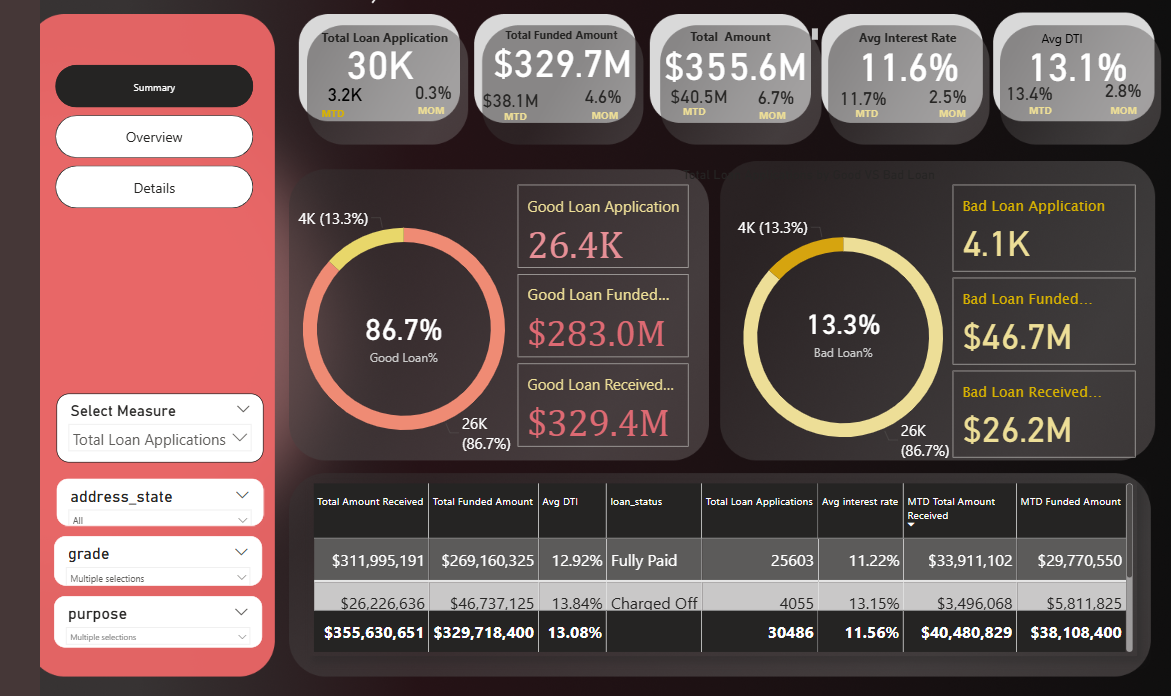

This screenshot's page, from the dashboard's own definition file:
{"tool":"powerbi","page":{"name":"summary","canvas":[1280,720],"ordinal":1},"visuals":[{"type":"card","fields":{"Values":["bank_loan_data.Total Loan Applications"]},"box":[424.3,97.8,91.7,36.7],"z":0},{"type":"card","fields":{"Values":["Date Table.MTD Loan Applications"]},"box":[382.7,118.6,66,28.1],"z":1000},{"type":"card","fields":{"Values":["Date Table.MOM Loan Application"]},"box":[484.2,118.6,61.1,25.7],"z":2000},{"type":"card","fields":{"Values":["Date Table.MOM Total Funded Amount"]},"box":[661.6,105.2,86.8,44],"z":3000},{"type":"card","fields":{"Values":["Date Table.Total Funded Amount"]},"box":[593.1,90.5,127.2,29.3],"z":4000},{"type":"card","fields":{"Values":["Date Table.Total Amount Received"]},"box":[748.4,90.5,144.3,28.1],"z":5000},{"type":"card","fields":{"Values":["Date Table.MTD Total Amount Received"]},"box":[742.3,112.5,78.3,25.7],"z":6000},{"type":"card","fields":{"Values":["Date Table.MOM Total  Amount Received"]},"box":[847.4,113.7,58.7,25.7],"z":7000},{"type":"card","fields":{"Values":["Date Table.MOM Avg Interest Rate"]},"box":[1214,135.1,103.5,91.2],"z":8000},{"type":"slicer","fields":{"Values":["bank_loan_data.address_state"]},"box":[81,260,190,68],"z":9000},{"type":"slicer","fields":{"Values":["bank_loan_data.purpose"]},"box":[79,334,190,68],"z":10000},{"type":"slicer","fields":{"Values":["bank_loan_data.grade"]},"box":[79,412,192,71],"z":11000},{"type":"textbox","box":[595.5,67.3,121.1,33],"z":12000},{"type":"textbox","box":[771.6,67.3,129.6,34.2],"z":13000},{"type":"textbox","box":[415.8,75.8,179.8,34.2],"z":14000},{"type":"textbox","box":[686,127.2,46.5,29.3],"z":15000},{"type":"textbox","box":[595.5,132.1,48.9,33],"z":16000},{"type":"slicer","fields":{"Values":["Select Measure.Select Measure"]},"box":[78,492,192,74],"z":18000},{"type":"shape","box":[1132.7,685.5,34.5,254.5],"z":20000},{"type":"pageNavigator","box":[92.9,114.9,166.3,127.2],"z":21000},{"type":"textbox","box":[399.9,135.7,48.9,33],"z":22000},{"type":"textbox","box":[858.4,132.1,47.7,29.3],"z":23000},{"type":"textbox","box":[771.6,135.7,48.9,33],"z":24000},{"type":"textbox","box":[491.6,134.5,47.7,29.3],"z":25000},{"type":"textbox","box":[946.5,73.4,135.7,40.4],"z":26000},{"type":"textbox","box":[1140.9,79.5,124.7,28.1],"z":27000},{"type":"textbox","box":[1034.5,135.7,46.5,29.3],"z":28000},{"type":"textbox","box":[1231.4,135.7,48.9,36.7],"z":29000},{"type":"textbox","box":[1125,139.4,48.9,33],"z":30000},{"type":"textbox","box":[946.5,132.1,48.9,33],"z":31000},{"type":"card","fields":{"Values":["Date Table.MOM Avg DTI"]},"box":[1231.4,116.2,48.9,25.7],"z":32000},{"type":"card","fields":{"Values":["Date Table.MTD Avg DTI"]},"box":[1115.2,119.8,58.7,22],"z":33000},{"type":"card","fields":{"Values":["Date Table.MOM Avg Interest Rate"]},"box":[1029.6,116.2,51.4,28.1],"z":34000},{"type":"card","fields":{"Values":["Date Table.MTD Avg Int Rate"]},"box":[928.1,116.2,62.4,30.6],"z":35000},{"type":"card","fields":{"Values":["Date Table.Avg DTI"]},"box":[1155.6,99,81.9,31.8],"z":36000},{"type":"card","fields":{"Values":["Date Table.Avg interest rate"]},"box":[967.3,90.5,81.9,37.9],"z":37000},{"type":"card","fields":{"Values":["Date Table.MTD Funded Amount"]},"box":[564.9,113.7,110.1,25.7],"z":38000},{"type":"tableEx","fields":{"Values":["Date Table.Total Amount Received","Date Table.Total Funded Amount","Date Table.Avg DTI","bank_loan_data.loan_status","bank_loan_data.Total Loan Applications","Date Table.Avg interest rate","Date Table.MTD Total Amount Received","Date Table.MTD Funded Amount"]},"box":[429.2,486.7,851.1,181],"z":39000},{"type":"cardVisual","fields":{"Data":["Date Table.Good Loan Application","Date Table.Good Loan Funded Amount","Date Table.Good Loan Received Amount"]},"box":[612.6,223.8,227.4,188.3],"z":40000},{"type":"donutChart","fields":{"Category":["bank_loan_data.Good VS Bad Loan"],"Y":["bank_loan_data.Total Loan Applications"]},"box":[352.2,221.3,278.8,207.9],"z":41000},{"type":"card","fields":{"Values":["Date Table.Good Loan%"]},"box":[430.4,282.5,108.8,70.9],"z":42000},{"type":"cardVisual","fields":{"Data":["Date Table.Bad Loan Application","Date Table.Bad Loan Funded Amount","Date Table.Bad Loan Received Amount"]},"box":[1081,234.8,199.3,188.3],"z":43000},{"type":"donutChart","fields":{"Category":["bank_loan_data.Good VS Bad Loan"],"Y":["bank_loan_data.Total Loan Applications"]},"box":[858.4,212.8,264.1,225],"z":44000},{"type":"card","fields":{"Values":["Date Table.Bad Loan%"]},"box":[935.5,269,118.6,99],"z":45000}]}

Visuals, with their boxes on the page's 1280x720 design canvas (x1, y1, x2, y2). These are canvas units, not pixel positions in the 1171x696 screenshot, which may show the page scaled, cropped or inside an application window:
card - bank_loan_data.Total Loan Applications: {"left": 424, "top": 98, "right": 516, "bottom": 134}
card - Date Table.MTD Loan Applications: {"left": 383, "top": 119, "right": 449, "bottom": 147}
card - Date Table.MOM Loan Application: {"left": 484, "top": 119, "right": 545, "bottom": 144}
card - Date Table.MOM Total Funded Amount: {"left": 662, "top": 105, "right": 748, "bottom": 149}
card - Date Table.Total Funded Amount: {"left": 593, "top": 90, "right": 720, "bottom": 120}
card - Date Table.Total Amount Received: {"left": 748, "top": 90, "right": 893, "bottom": 119}
card - Date Table.MTD Total Amount Received: {"left": 742, "top": 112, "right": 821, "bottom": 138}
card - Date Table.MOM Total  Amount Received: {"left": 847, "top": 114, "right": 906, "bottom": 139}
card - Date Table.MOM Avg Interest Rate: {"left": 1214, "top": 135, "right": 1318, "bottom": 226}
slicer - bank_loan_data.address_state: {"left": 81, "top": 260, "right": 271, "bottom": 328}
slicer - bank_loan_data.purpose: {"left": 79, "top": 334, "right": 269, "bottom": 402}
slicer - bank_loan_data.grade: {"left": 79, "top": 412, "right": 271, "bottom": 483}
textbox: {"left": 596, "top": 67, "right": 717, "bottom": 100}
textbox: {"left": 772, "top": 67, "right": 901, "bottom": 102}
textbox: {"left": 416, "top": 76, "right": 596, "bottom": 110}
textbox: {"left": 686, "top": 127, "right": 732, "bottom": 156}
textbox: {"left": 596, "top": 132, "right": 644, "bottom": 165}
slicer - Select Measure.Select Measure: {"left": 78, "top": 492, "right": 270, "bottom": 566}
shape: {"left": 1133, "top": 686, "right": 1167, "bottom": 940}
pageNavigator: {"left": 93, "top": 115, "right": 259, "bottom": 242}
textbox: {"left": 400, "top": 136, "right": 449, "bottom": 169}
textbox: {"left": 858, "top": 132, "right": 906, "bottom": 161}
textbox: {"left": 772, "top": 136, "right": 820, "bottom": 169}
textbox: {"left": 492, "top": 134, "right": 539, "bottom": 164}
textbox: {"left": 946, "top": 73, "right": 1082, "bottom": 114}
textbox: {"left": 1141, "top": 80, "right": 1266, "bottom": 108}
textbox: {"left": 1034, "top": 136, "right": 1081, "bottom": 165}
textbox: {"left": 1231, "top": 136, "right": 1280, "bottom": 172}
textbox: {"left": 1125, "top": 139, "right": 1174, "bottom": 172}
textbox: {"left": 946, "top": 132, "right": 995, "bottom": 165}
card - Date Table.MOM Avg DTI: {"left": 1231, "top": 116, "right": 1280, "bottom": 142}
card - Date Table.MTD Avg DTI: {"left": 1115, "top": 120, "right": 1174, "bottom": 142}
card - Date Table.MOM Avg Interest Rate: {"left": 1030, "top": 116, "right": 1081, "bottom": 144}
card - Date Table.MTD Avg Int Rate: {"left": 928, "top": 116, "right": 990, "bottom": 147}
card - Date Table.Avg DTI: {"left": 1156, "top": 99, "right": 1238, "bottom": 131}
card - Date Table.Avg interest rate: {"left": 967, "top": 90, "right": 1049, "bottom": 128}
card - Date Table.MTD Funded Amount: {"left": 565, "top": 114, "right": 675, "bottom": 139}
tableEx - Date Table.Total Amount Received x Date Table.Total Funded Amount: {"left": 429, "top": 487, "right": 1280, "bottom": 668}
cardVisual - Date Table.Good Loan Application x Date Table.Good Loan Funded Amount: {"left": 613, "top": 224, "right": 840, "bottom": 412}
donutChart - bank_loan_data.Good VS Bad Loan x bank_loan_data.Total Loan Applications: {"left": 352, "top": 221, "right": 631, "bottom": 429}
card - Date Table.Good Loan%: {"left": 430, "top": 282, "right": 539, "bottom": 353}
cardVisual - Date Table.Bad Loan Application x Date Table.Bad Loan Funded Amount: {"left": 1081, "top": 235, "right": 1280, "bottom": 423}
donutChart - bank_loan_data.Good VS Bad Loan x bank_loan_data.Total Loan Applications: {"left": 858, "top": 213, "right": 1122, "bottom": 438}
card - Date Table.Bad Loan%: {"left": 936, "top": 269, "right": 1054, "bottom": 368}
